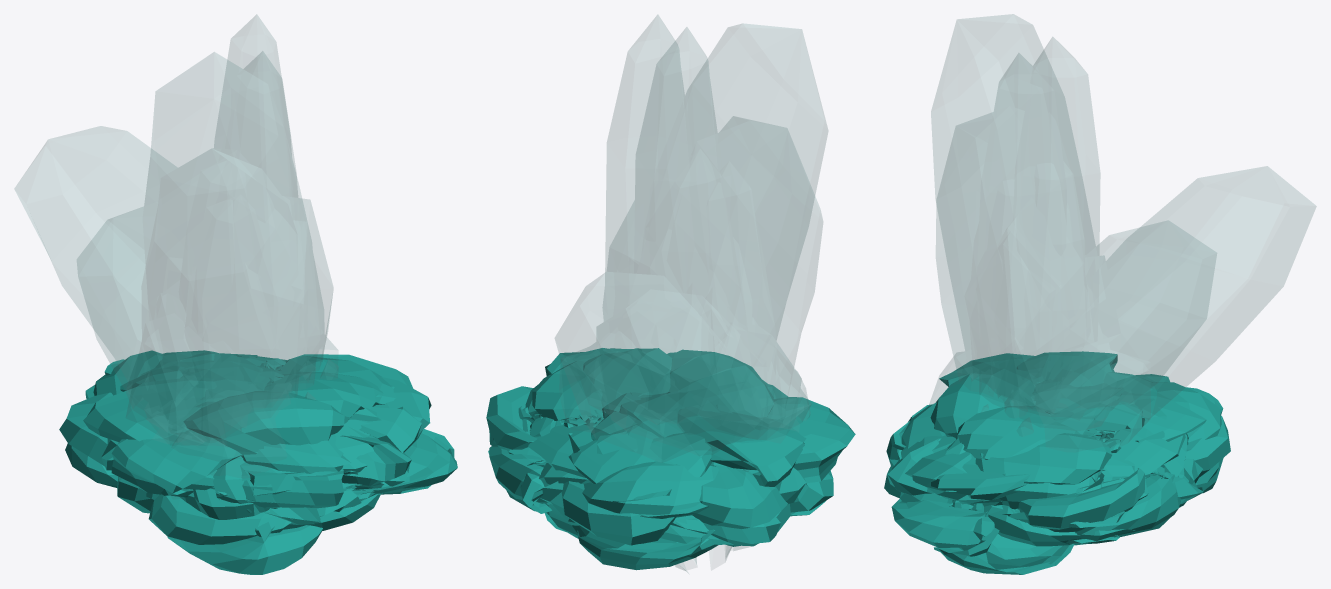
File: crystal16.obj
The picture shows the model from 3 angles, left to right: view 1: azimuth 30°, elevation 25°; view 2: azimuth 150°, elevation 25°; view 3: azimuth 270°, elevation 25°; orthographic projection. The views are drawn at different scales.
Visible parts, largest first — view 1: Cube.001, Circle.001, Circle; view 2: Circle.001, Cube.001, Circle; view 3: Cube.001, Circle, Circle.001.
Boxes of the visible parts, x1,y1,x2,y2 form: Cube.001: [59, 350, 457, 574]; Circle.001: [126, 51, 333, 442]; Circle: [14, 14, 338, 446]; Circle.001: [603, 23, 827, 572]; Cube.001: [486, 348, 855, 570]; Circle: [555, 15, 810, 451]; Cube.001: [884, 351, 1230, 574]; Circle: [928, 37, 1316, 441]; Circle.001: [931, 14, 1119, 408].
Bounding box in the file's own units: 2.23 × 3.62 × 2.67.
